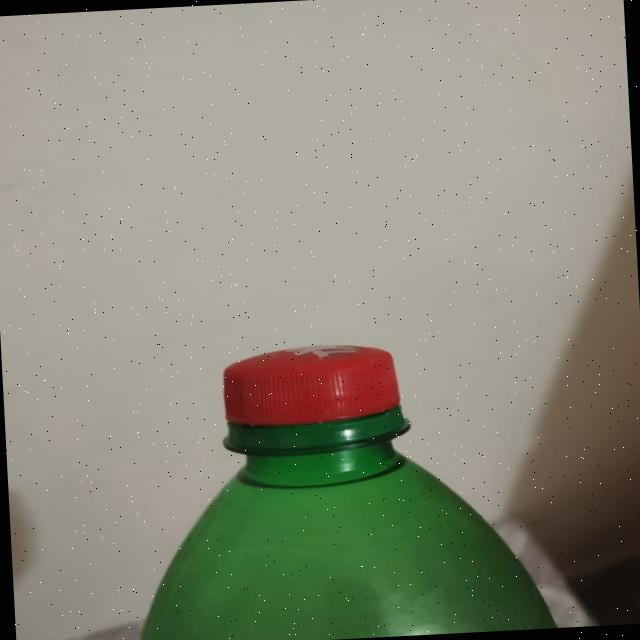cap: (222, 344, 407, 454)
